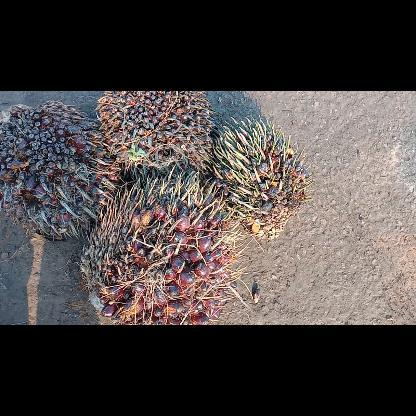TBS abnormal: (0, 100, 124, 244), (207, 114, 317, 244), (93, 92, 221, 178)
TBS masak: (78, 170, 244, 324)
